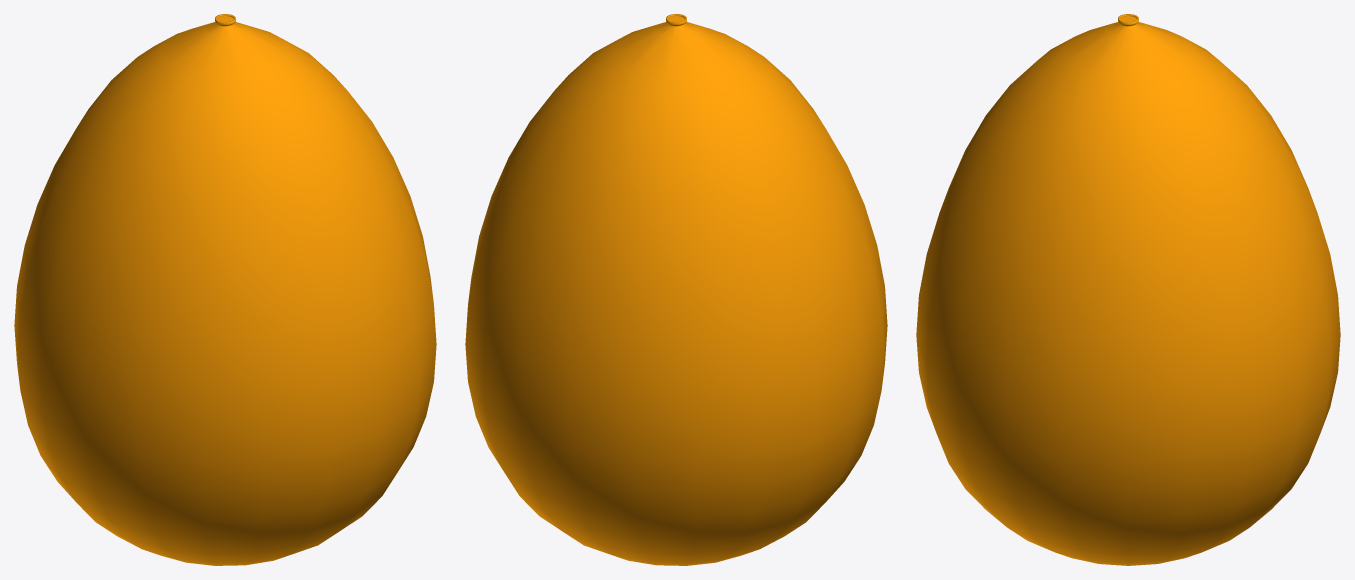
The model's file is SM_Ballon_01.fbx.
The picture shows the model from 3 angles, left to right: view 1: azimuth 30°, elevation 25°; view 2: azimuth 150°, elevation 25°; view 3: azimuth 270°, elevation 25°; orthographic projection.
Parts seen in each view (by area): view 1: SM_Ballon_01_LOD0; view 2: SM_Ballon_01_LOD0; view 3: SM_Ballon_01_LOD0.
Boxes of the visible parts, left/top/right/bottom form: SM_Ballon_01_LOD0: left=14, top=14, right=436, bottom=565; SM_Ballon_01_LOD0: left=465, top=14, right=887, bottom=565; SM_Ballon_01_LOD0: left=916, top=14, right=1340, bottom=565.
Bounding box in the file's own units: 16.4 × 16.4 × 22.47.
Materials: 1 (1 with a texture image).
